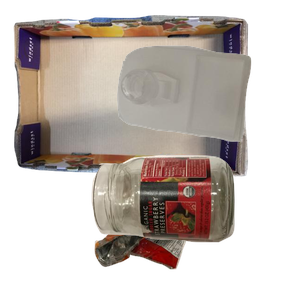cardboard: (11, 13, 251, 182)
glass: (89, 153, 300, 300)
plastic: (115, 43, 300, 177)
trash: (92, 174, 272, 300)
